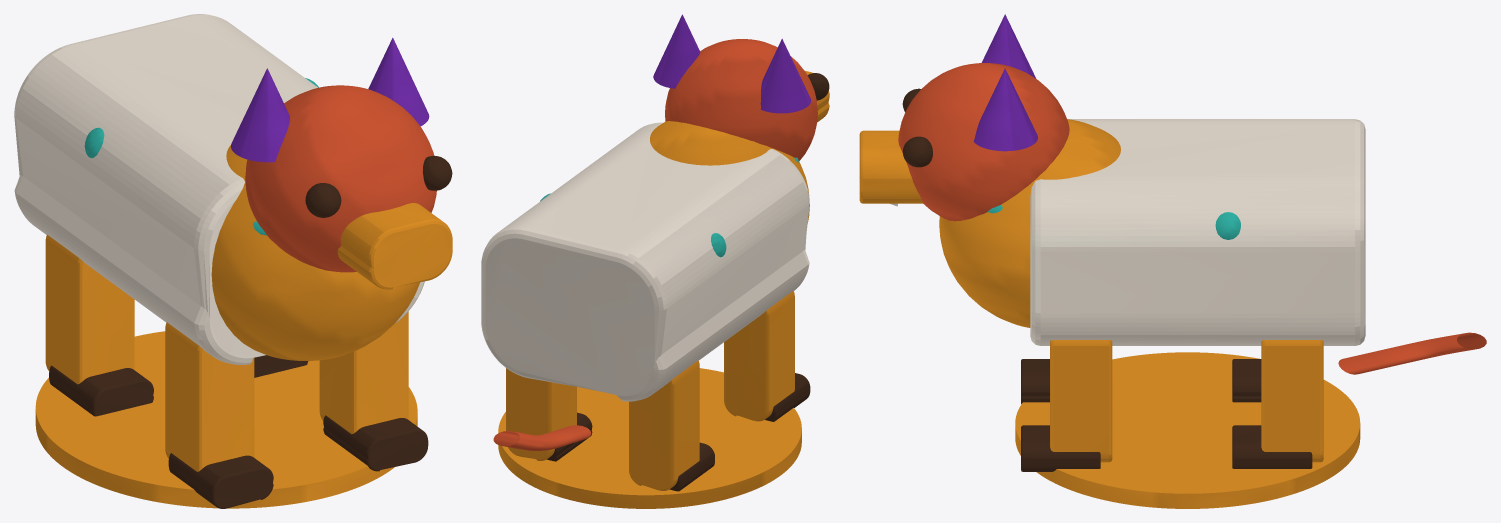
The model's file is 0287_古生代动物图鉴_皮卡虫.glb.
3 renders of one model, left to right at view 1: azimuth 30°, elevation 25°; view 2: azimuth 150°, elevation 25°; view 3: azimuth 270°, elevation 25°, orthographic. The views are drawn at different scales.
Visible parts, largest first — view 1: card_0287; view 2: card_0287; view 3: card_0287.
Part boxes in pixels (x1,y1,x2,y2): card_0287: [14, 14, 452, 508]; card_0287: [481, 14, 829, 508]; card_0287: [859, 14, 1486, 508].
Size of the model in its own units: 0.7635 by 1 by 1.43.
